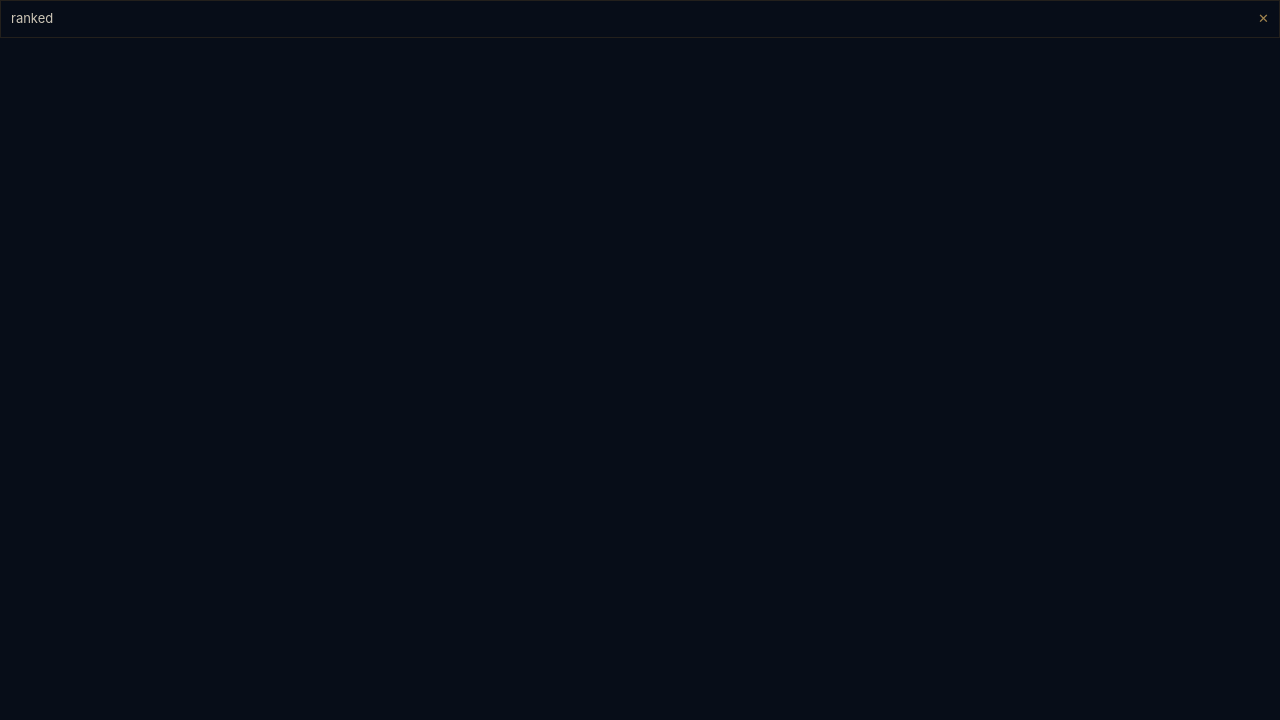
Test case: deleting a profile › keeps the profile when Escape is pressed
Click the button named "Delete ranked". click: (1264, 19)
box: x1=1248 y1=1 x2=1279 y2=36
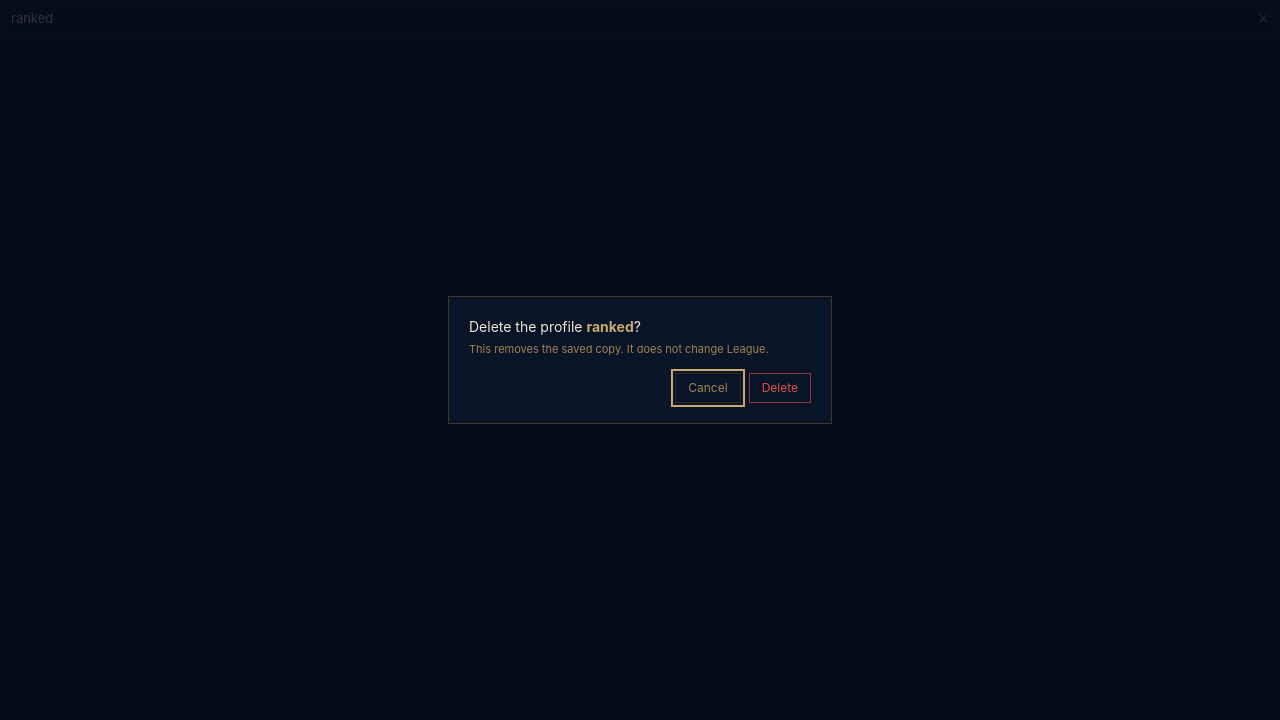
Press Escape in the button "Cancel", box x1=675 y1=373 x2=741 y2=403
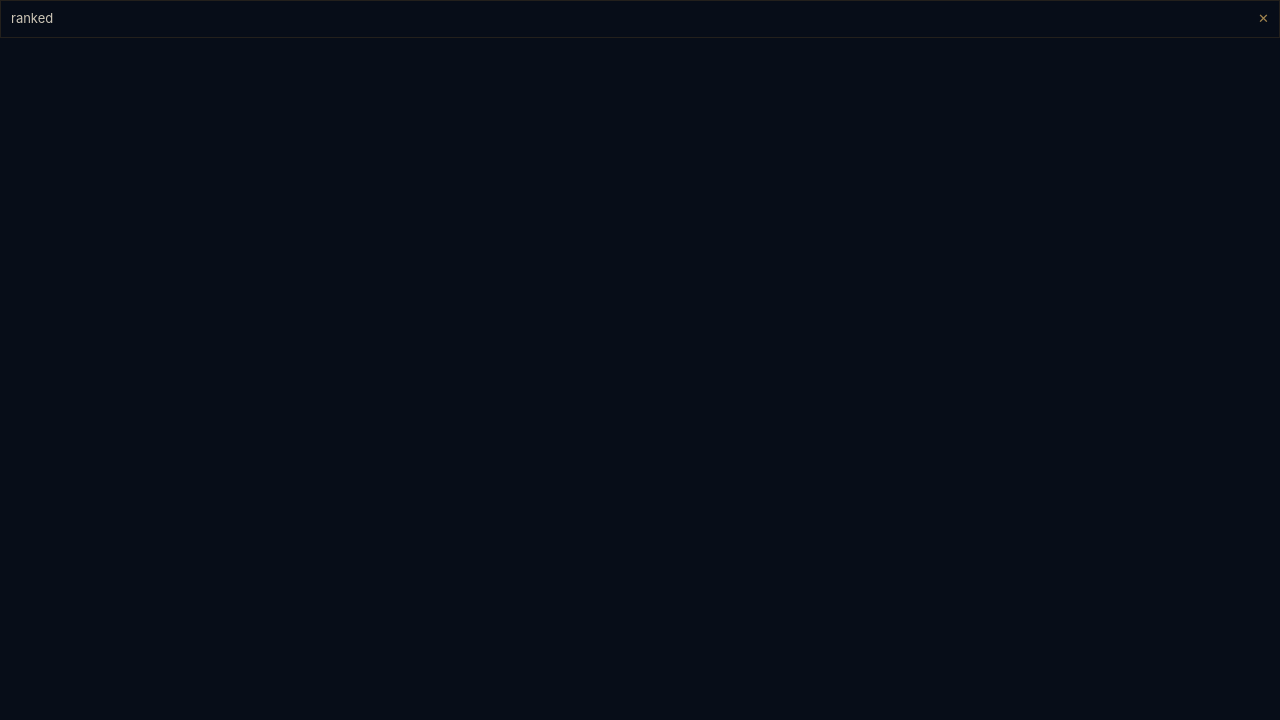
Now the dialog is gone
